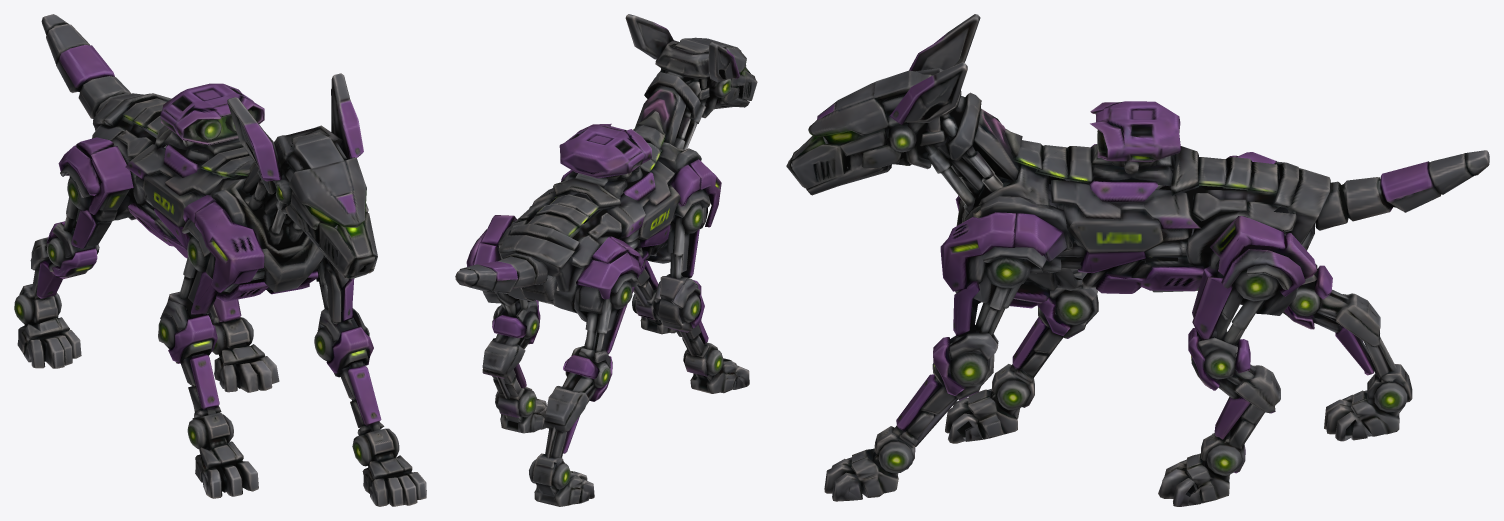
The model's file is hound_l03-meshy-source.glb.
3 renders of one model, left to right at view 1: azimuth 30°, elevation 25°; view 2: azimuth 150°, elevation 25°; view 3: azimuth 270°, elevation 25°, orthographic. The views are drawn at different scales.
Visible parts, largest first — view 1: geometry_0; view 2: geometry_0; view 3: geometry_0.
Part boxes in pixels (box(x1,y1,x2,y2)): geometry_0: box(14, 14, 426, 506); geometry_0: box(455, 14, 757, 506); geometry_0: box(786, 14, 1489, 506).
Bounding box in the file's own units: 0.292 × 0.6333 × 0.9526.
Materials: 1 (1 with a texture image).
